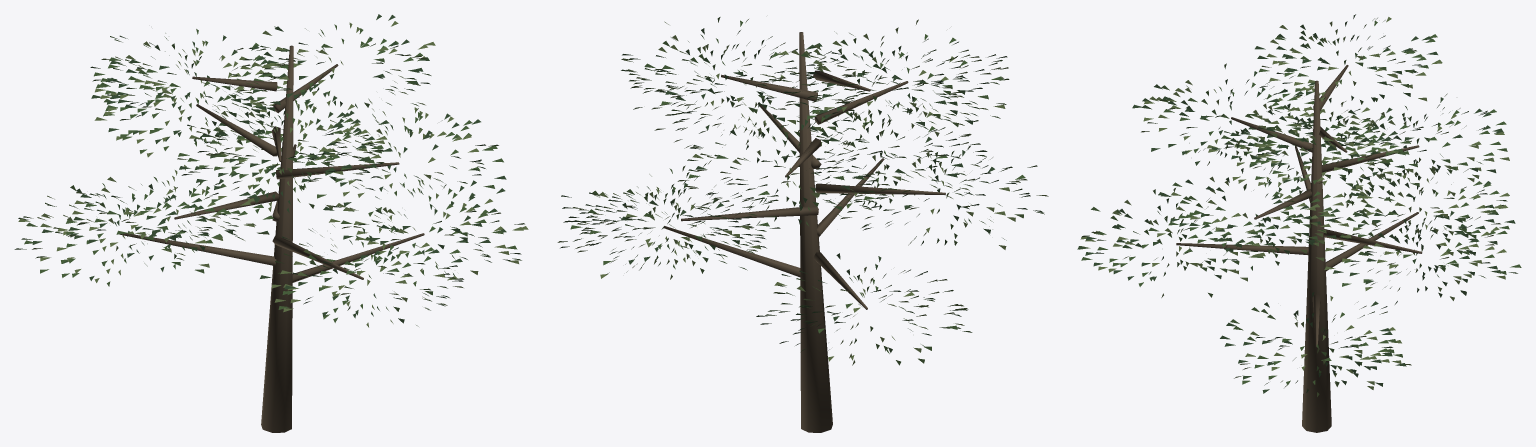
File: tubishanzhuang.glb
3 renders of one model, left to right at view 1: azimuth 30°, elevation 25°; view 2: azimuth 150°, elevation 25°; view 3: azimuth 270°, elevation 25°, orthographic. The views are drawn at different scales.
Visible parts, largest first — view 1: Mobile_tubishanzhuang_plants; view 2: Mobile_tubishanzhuang_plants; view 3: Mobile_tubishanzhuang_plants.
Boxes of the visible parts, bbox=[...] form: Mobile_tubishanzhuang_plants: bbox=[14, 14, 528, 432]; Mobile_tubishanzhuang_plants: bbox=[557, 17, 1048, 432]; Mobile_tubishanzhuang_plants: bbox=[1077, 14, 1521, 432].
Bounding box in the file's own units: 11.26 × 9.15 × 10.46.
